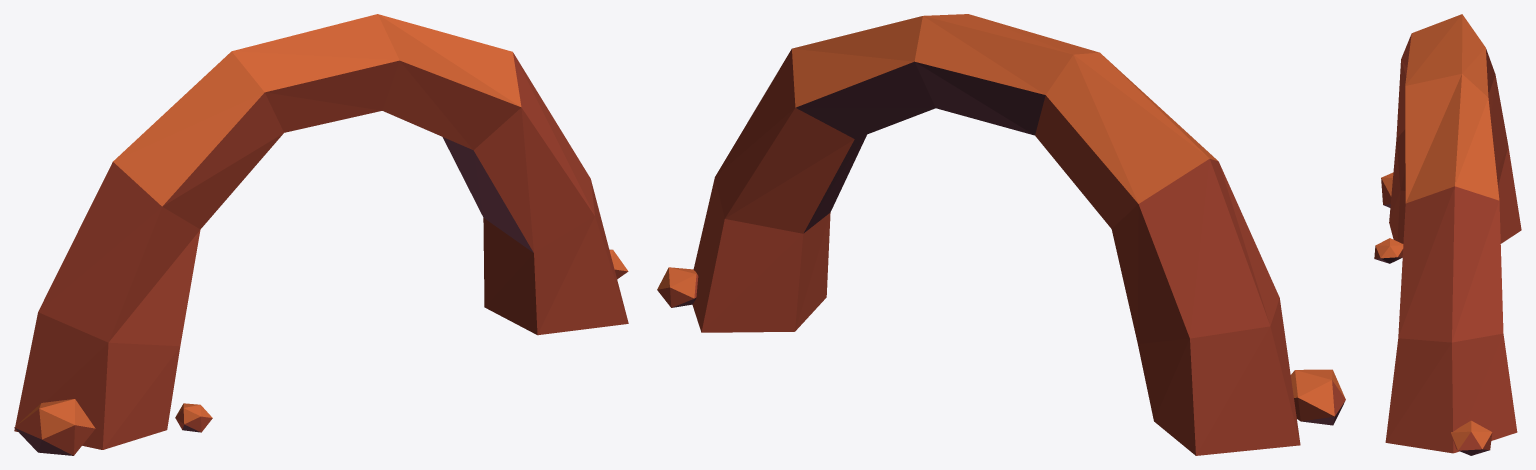
The model's file is Rock_Arch_A.fbx.
3 views of the same model, side by side, from view 1: azimuth 30°, elevation 25°; view 2: azimuth 150°, elevation 25°; view 3: azimuth 270°, elevation 25° (orthographic). The views are drawn at different scales.
Visible parts, largest first — view 1: Rock_Arch_A; view 2: Rock_Arch_A; view 3: Rock_Arch_A.
Boxes of the visible parts, x1=… form: Rock_Arch_A: x1=14, y1=14, x2=628, y2=455; Rock_Arch_A: x1=657, y1=14, x2=1345, y2=455; Rock_Arch_A: x1=1374, y1=14, x2=1521, y2=455.
Bounding box in the file's own units: 13.86 × 6.89 × 3.26.
